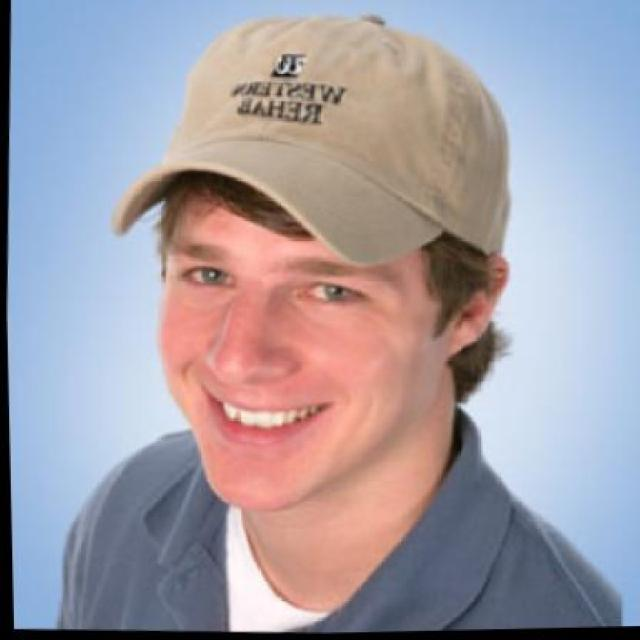hat: (101, 0, 524, 278)
